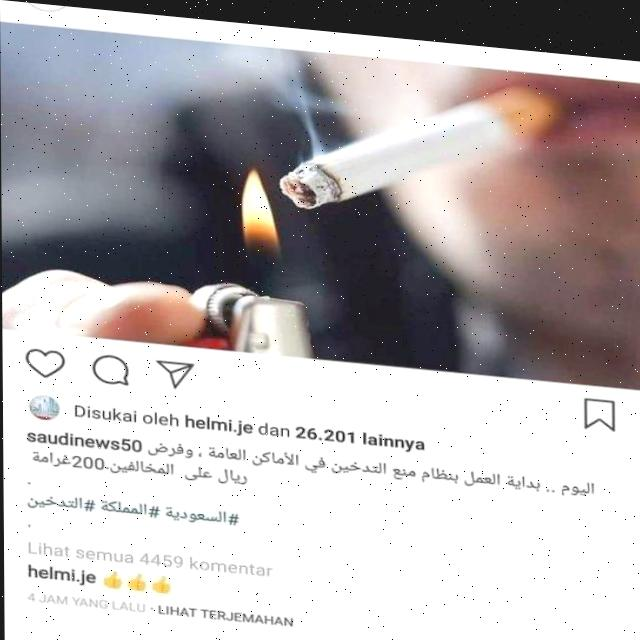cigarette: (278, 55, 552, 218)
